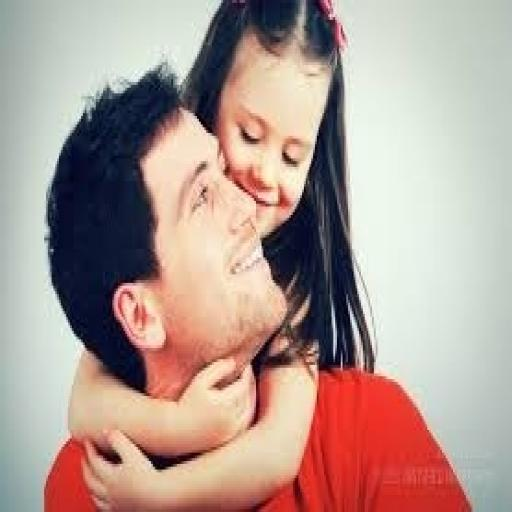hugging: (44, 0, 475, 509)
